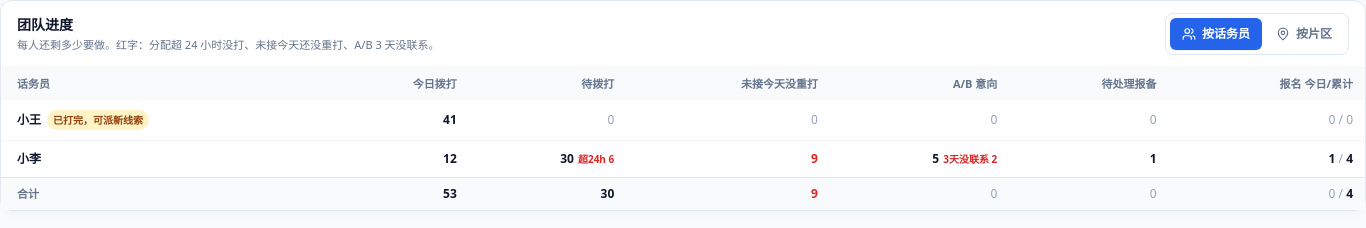
it: TeamProgressPanel › switches to the region view
Step 1. Click the button "按片区" → (1304, 34), box 1264,18 -> 1344,50
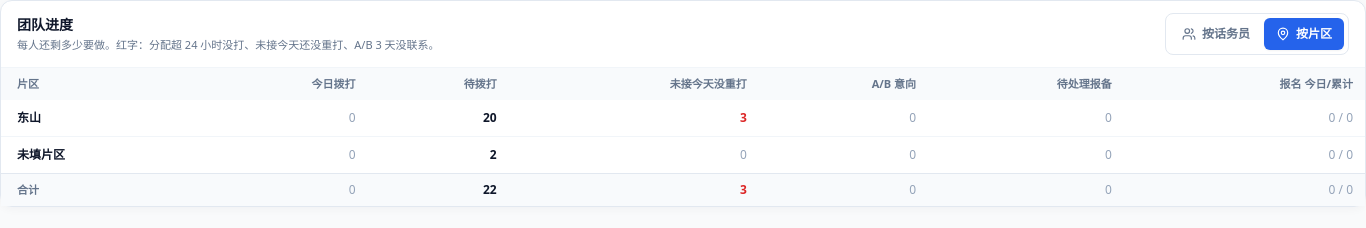
Check: the row "东山 0 20 3 0 0 0 / 0" is shown, box 1,100 -> 1365,136
Check: the link "30" is gone
